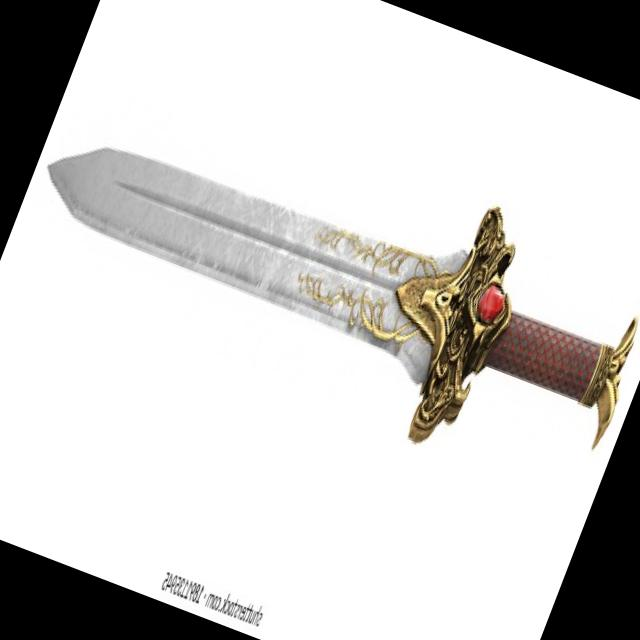Weapon: (0, 42, 640, 507)
